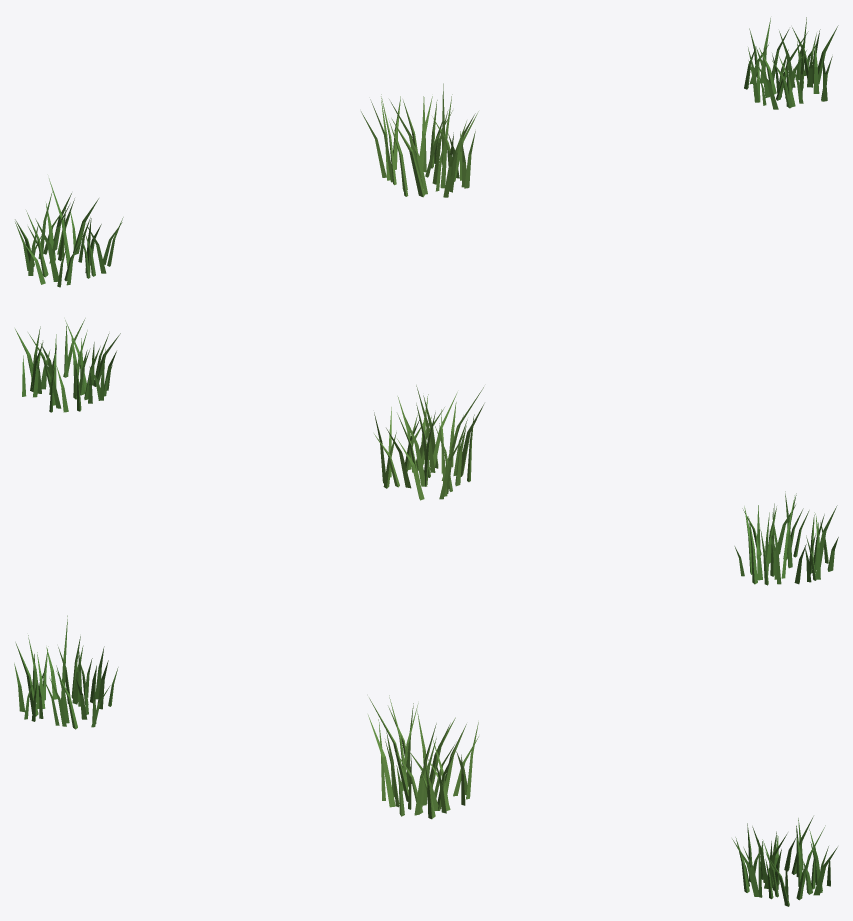
Rendered from Herbe_Haute_P1.fbx.
3 views of the same model, one above another, from view 1: azimuth 30°, elevation 25°; view 2: azimuth 150°, elevation 25°; view 3: azimuth 330°, elevation 25° (orthographic).
Parts seen in each view (by area): view 1: HerbeHaute_B, HerbeHaute_A, HerbeHaute_C; view 2: HerbeHaute_B, HerbeHaute_A, HerbeHaute_C; view 3: HerbeHaute_B, HerbeHaute_A, HerbeHaute_C.
Part boxes in pixels (x1,y1,x2,y2): HerbeHaute_B: (361, 83, 478, 197); HerbeHaute_A: (15, 178, 123, 287); HerbeHaute_C: (744, 17, 838, 109); HerbeHaute_B: (374, 385, 484, 500); HerbeHaute_A: (734, 491, 838, 585); HerbeHaute_C: (15, 318, 120, 412); HerbeHaute_B: (368, 695, 478, 819); HerbeHaute_A: (14, 615, 118, 729); HerbeHaute_C: (732, 816, 837, 906).
Size of the model in its own units: 22.86 by 2.73 by 2.85.
